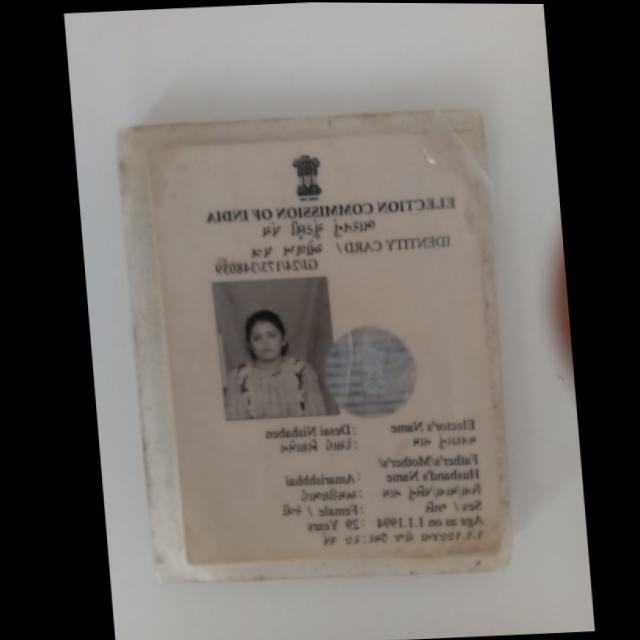voter_id: (130, 98, 524, 580)
